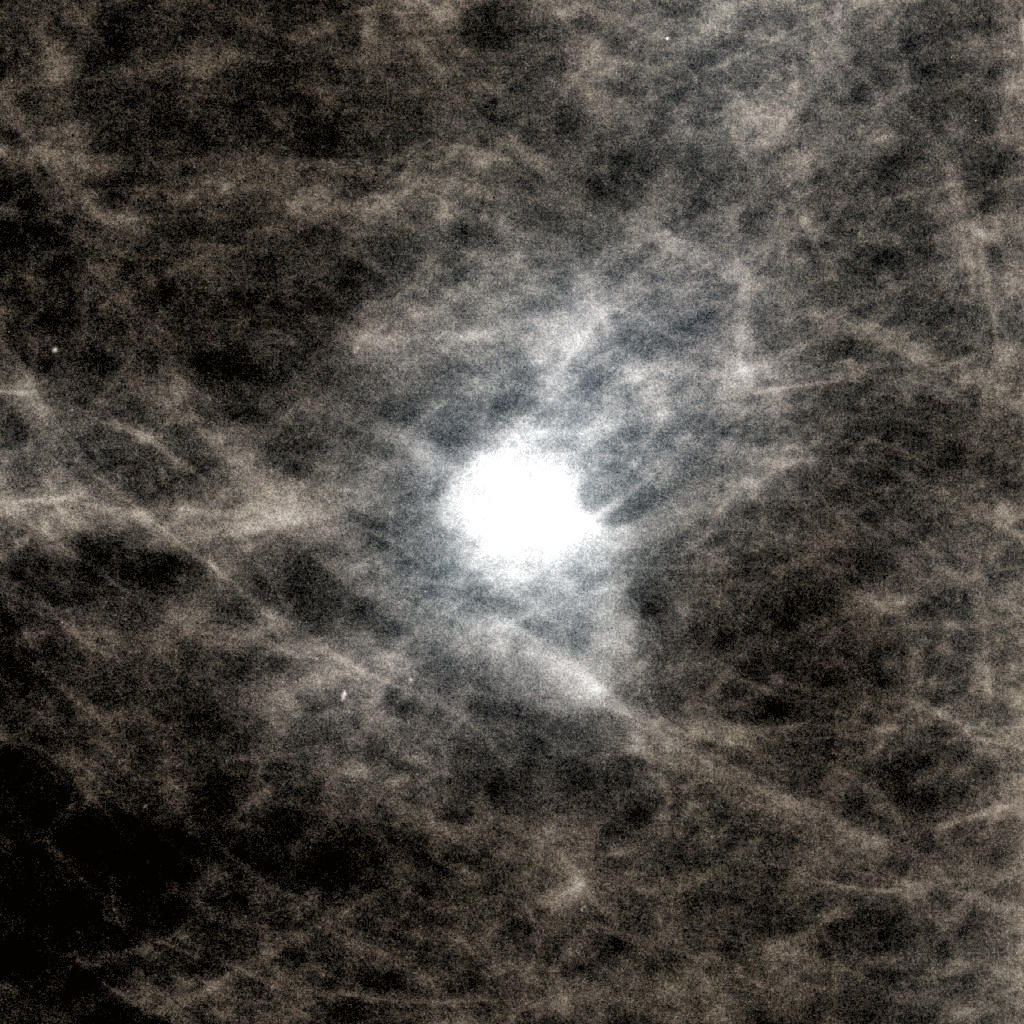tumor: (331, 301, 693, 723)
